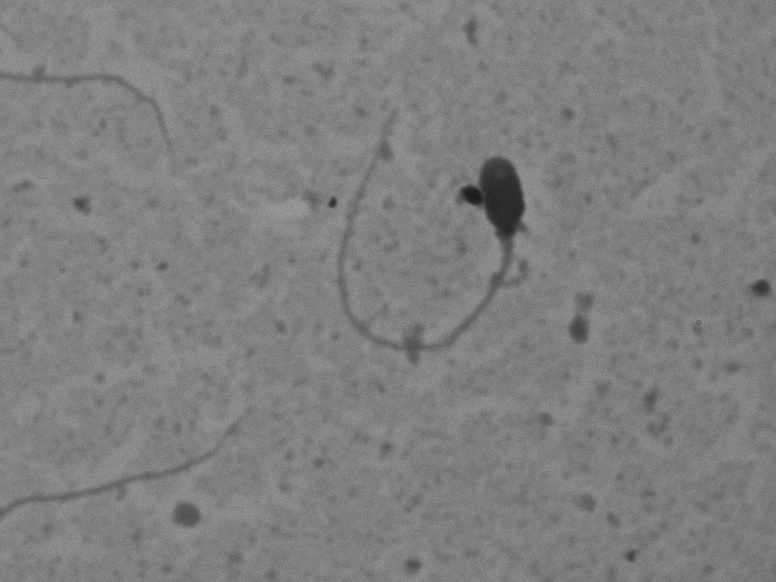Abnormal: (308, 103, 558, 367)
